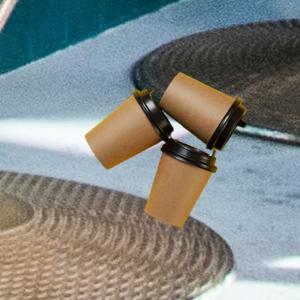cup: (84, 89, 173, 170), (160, 70, 243, 152), (144, 138, 217, 231)
